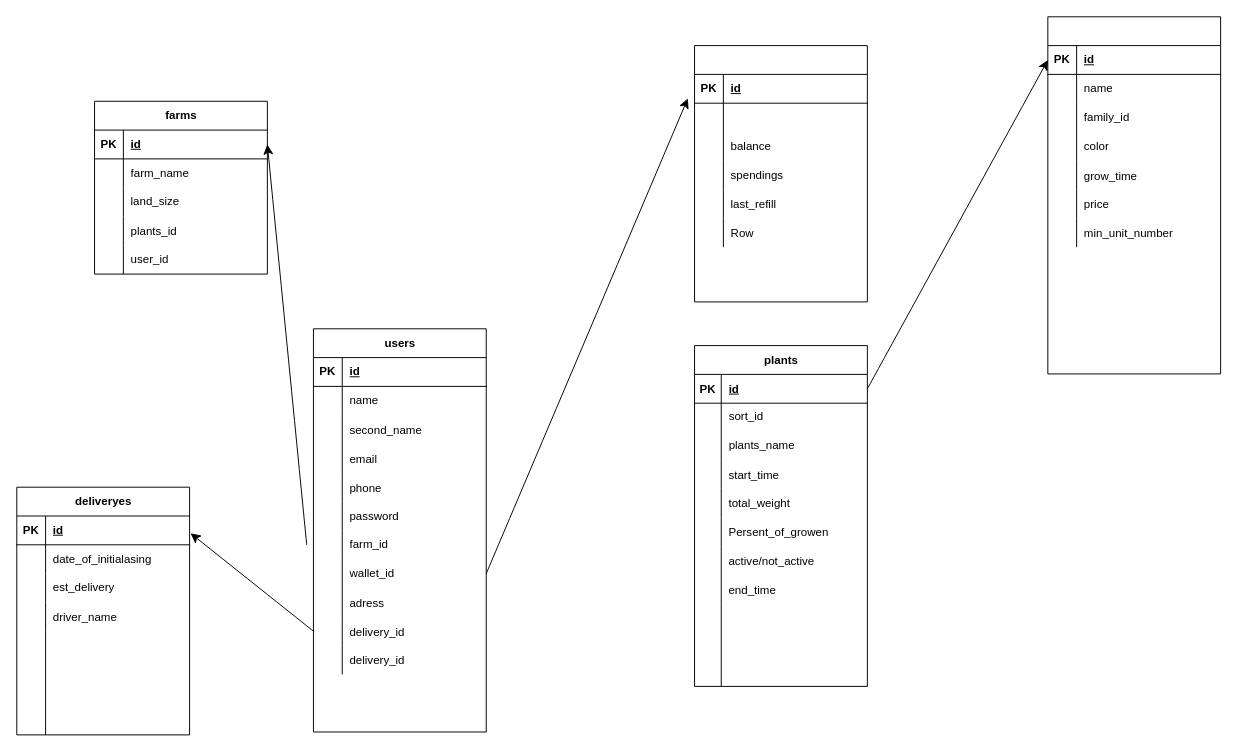
This 1237x752 diagram has some shape labels left out. The shapes that lost their labels are listed below. From the top down, each one's box as (x1, y1, x2, y2) in pixels, then its label:
(694, 45, 867, 302): wallets
(1047, 16, 1221, 374): sort
